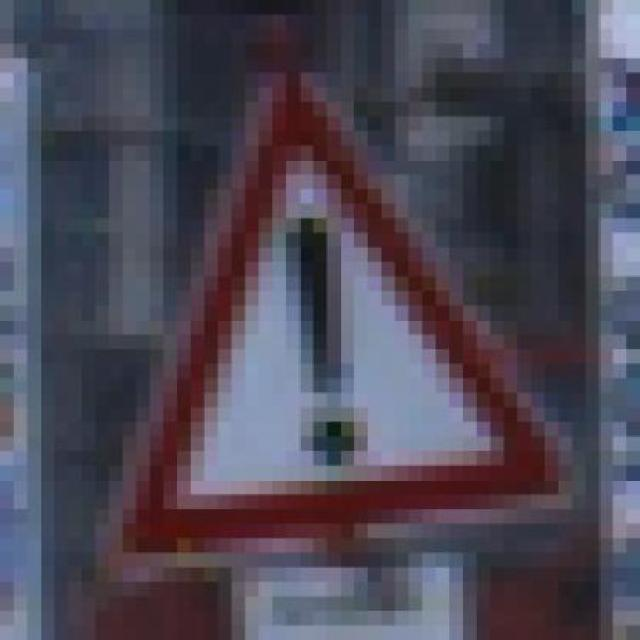Attention Please-: (95, 73, 599, 553)
